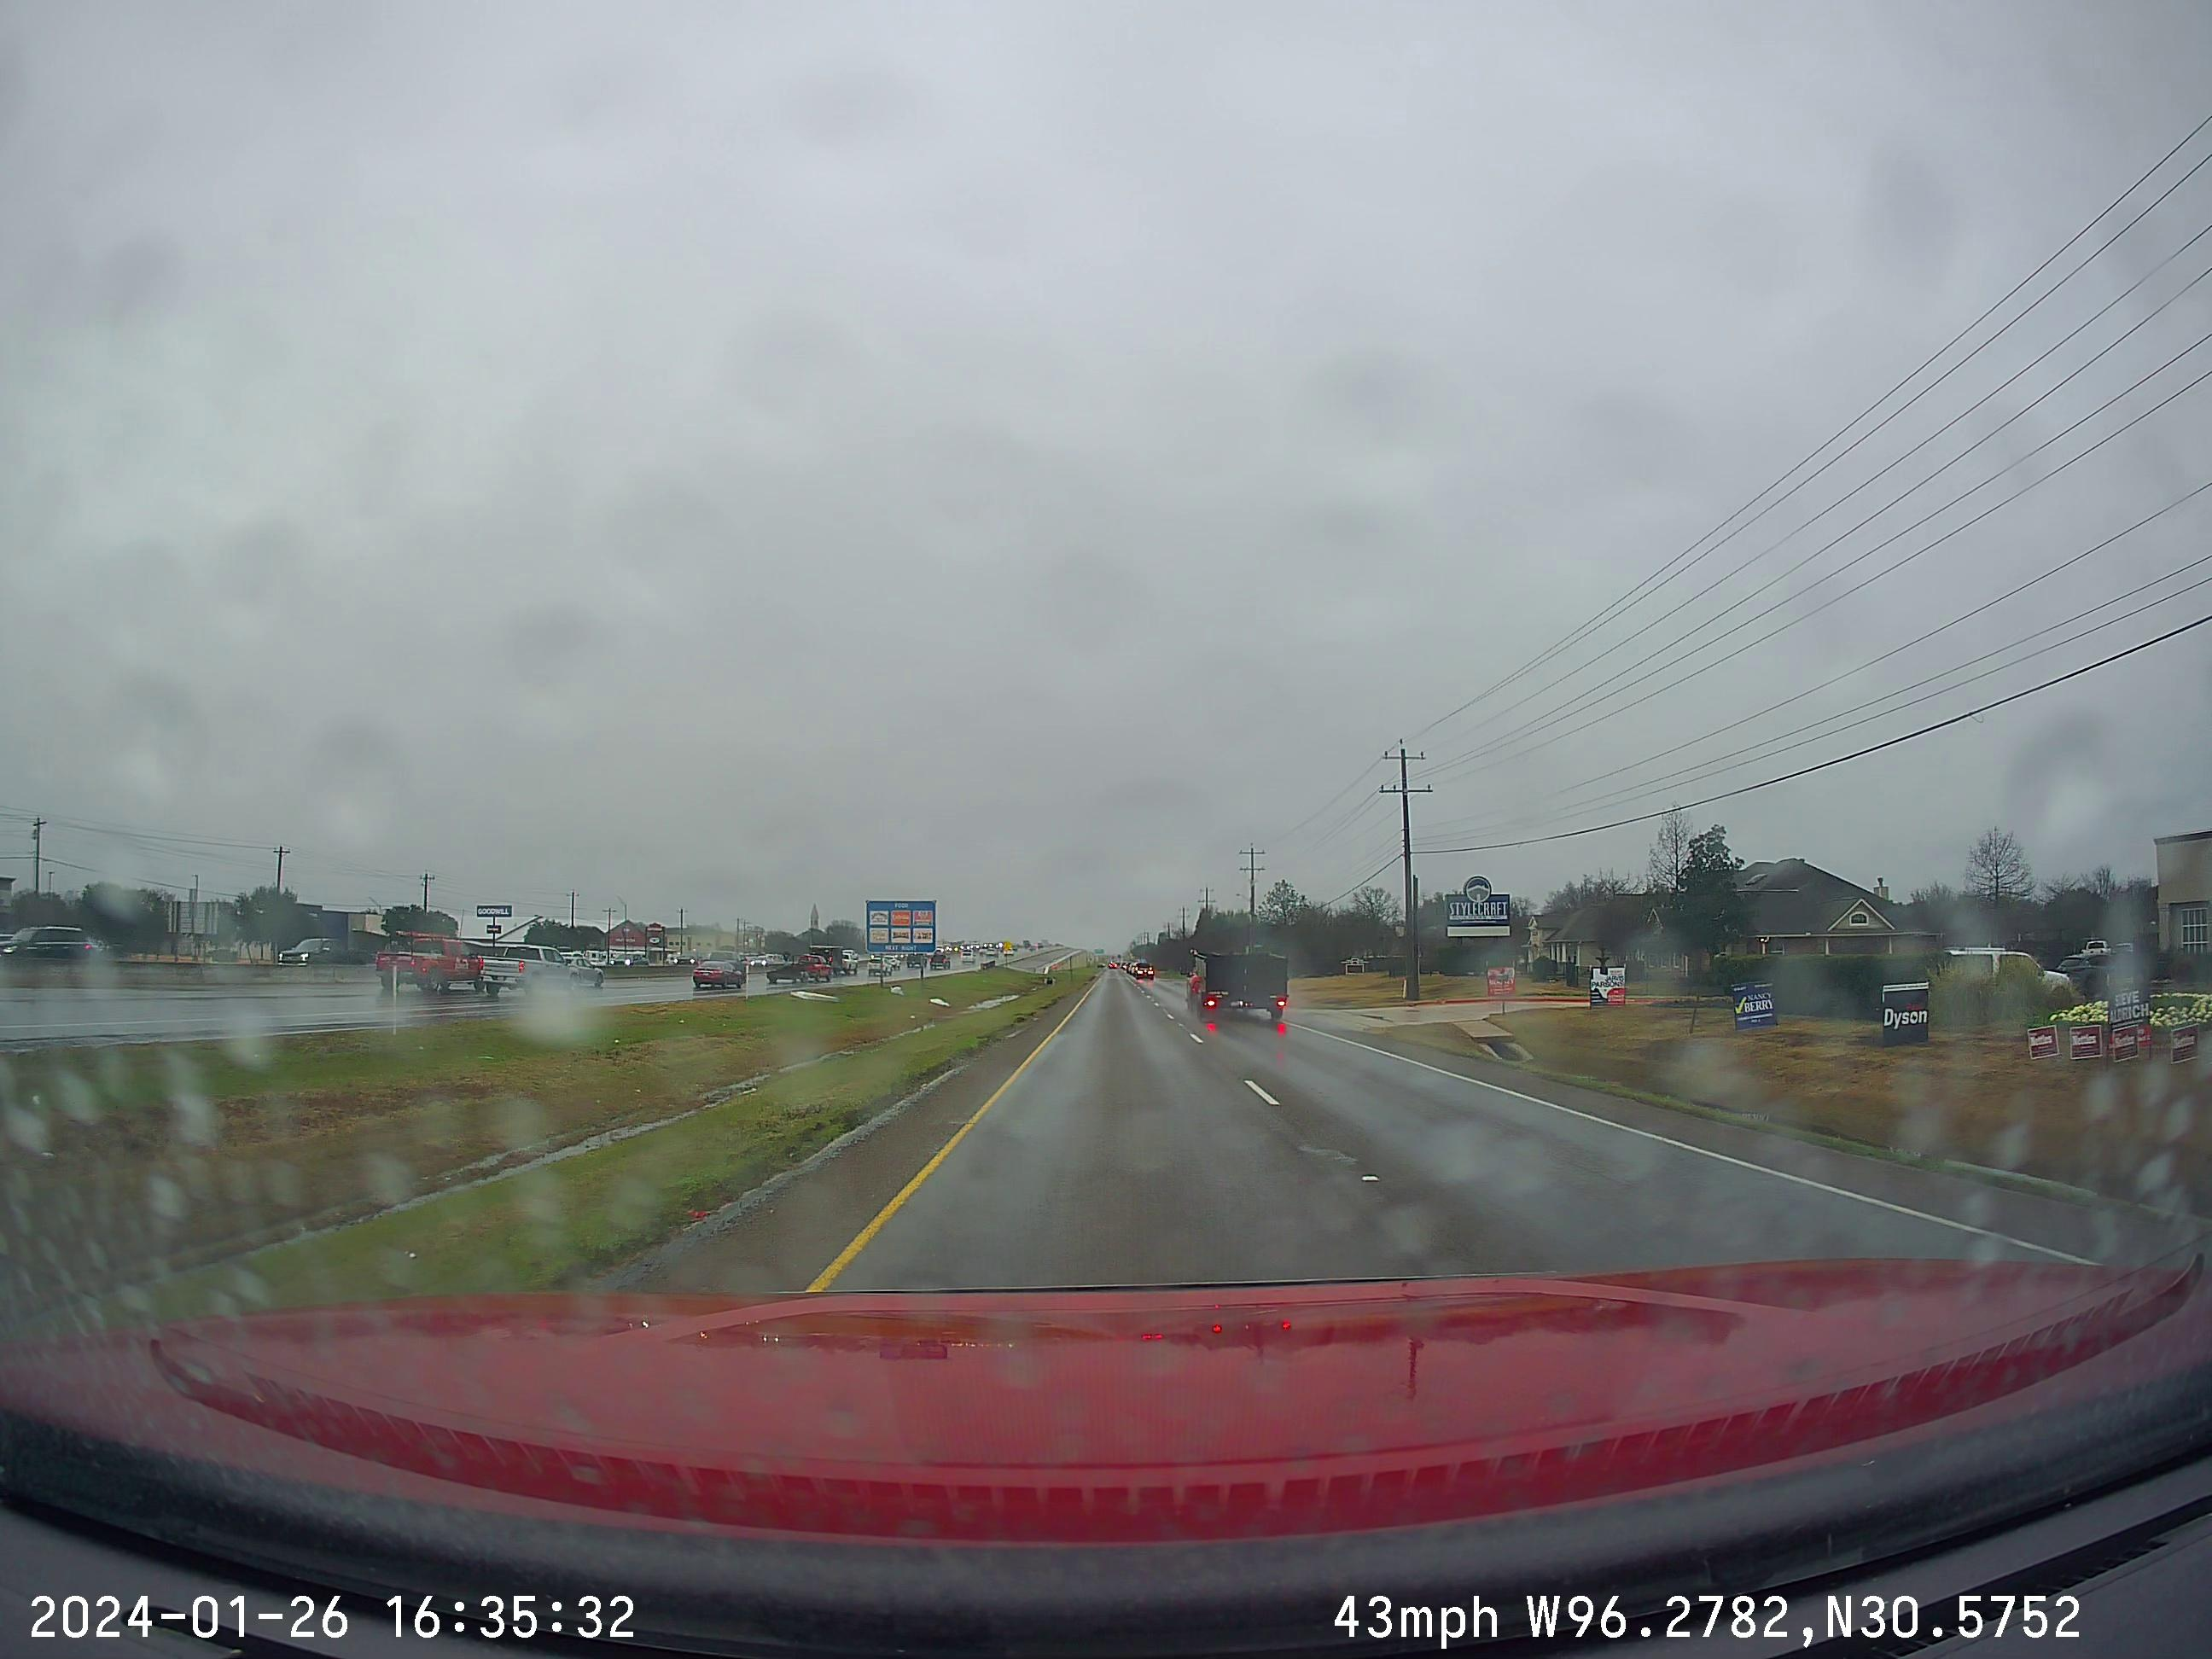truck: (1188, 950, 1287, 1033)
